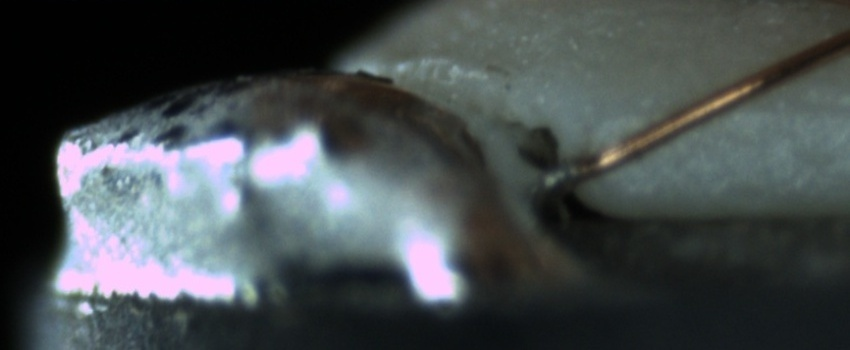DL: (699, 80, 849, 141)
